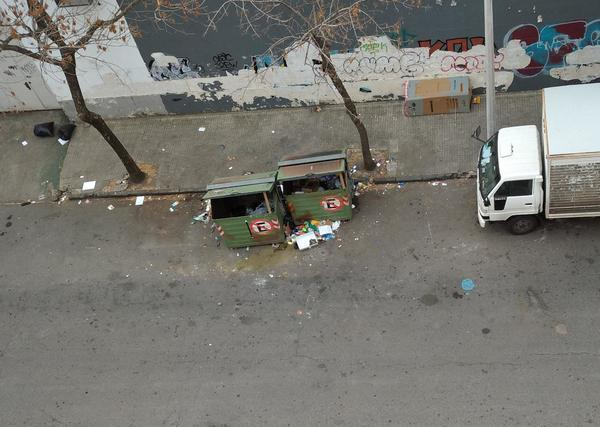Dechets: (403, 75, 479, 116), (288, 221, 340, 249), (34, 121, 75, 143), (349, 163, 368, 199), (193, 197, 211, 223), (76, 178, 99, 192), (167, 197, 180, 217), (133, 193, 145, 207), (430, 179, 448, 188), (20, 138, 31, 148), (195, 124, 206, 134), (105, 204, 117, 211)
Trash: (202, 150, 355, 247)
